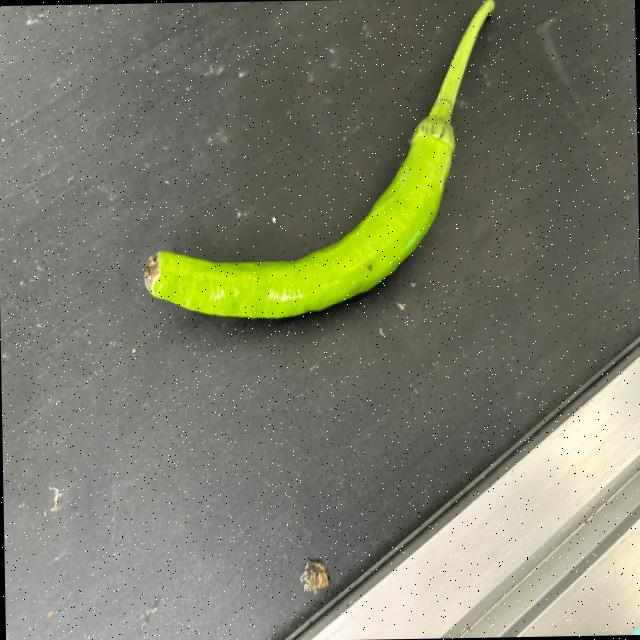chili: (139, 115, 458, 319)
